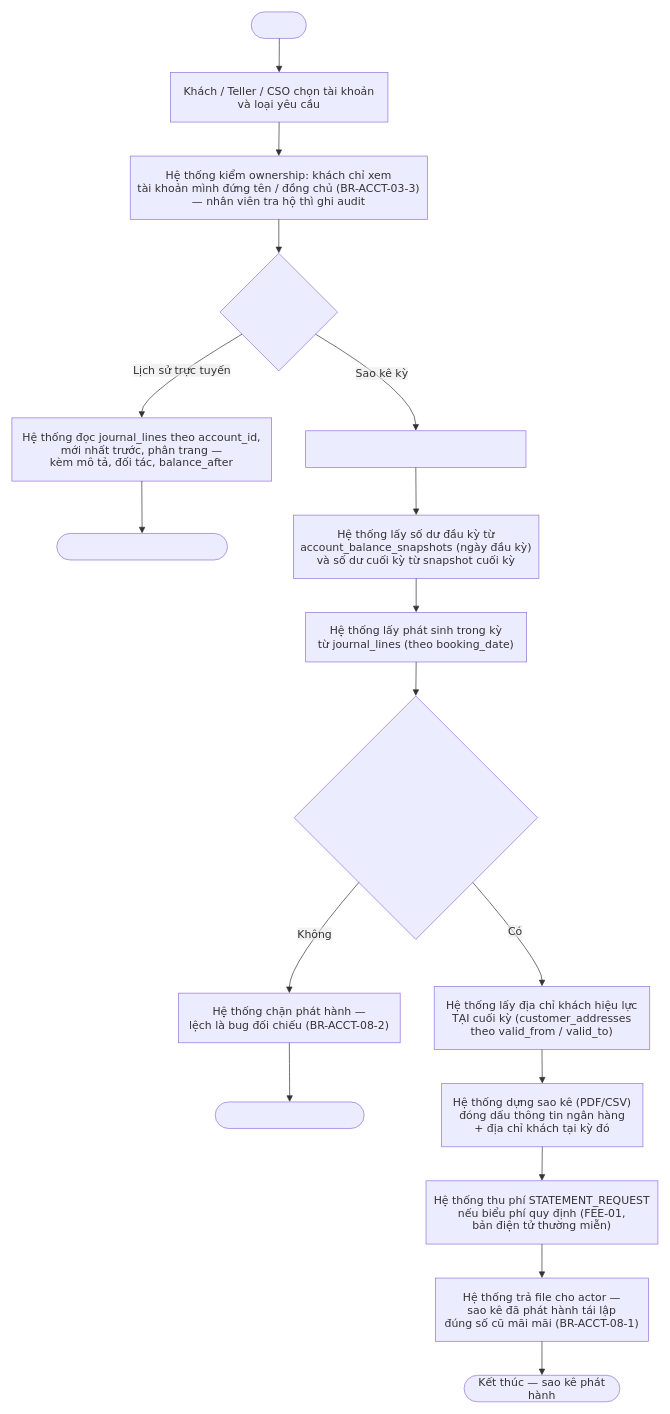
Some shapes in this 670 by 1414 pixel diagram are drawn without their labels. The centre of each missing label's shape, as x and y in pixels:
"Actor chọn kỳ (tháng / khoảng ngày)" goes at point 415,449.
"Bắt đầu" goes at point 278,24.
"Kết thúc — chặn phát hành" goes at point 289,1114.
"Kết thúc — trả lịch sử giao dịch" goes at point 141,546.
"Loại yêu cầu?" goes at point 278,312.
"Tổng phát sinh khớp snapshot (total_debit / total_credit)?" goes at point 415,817.
